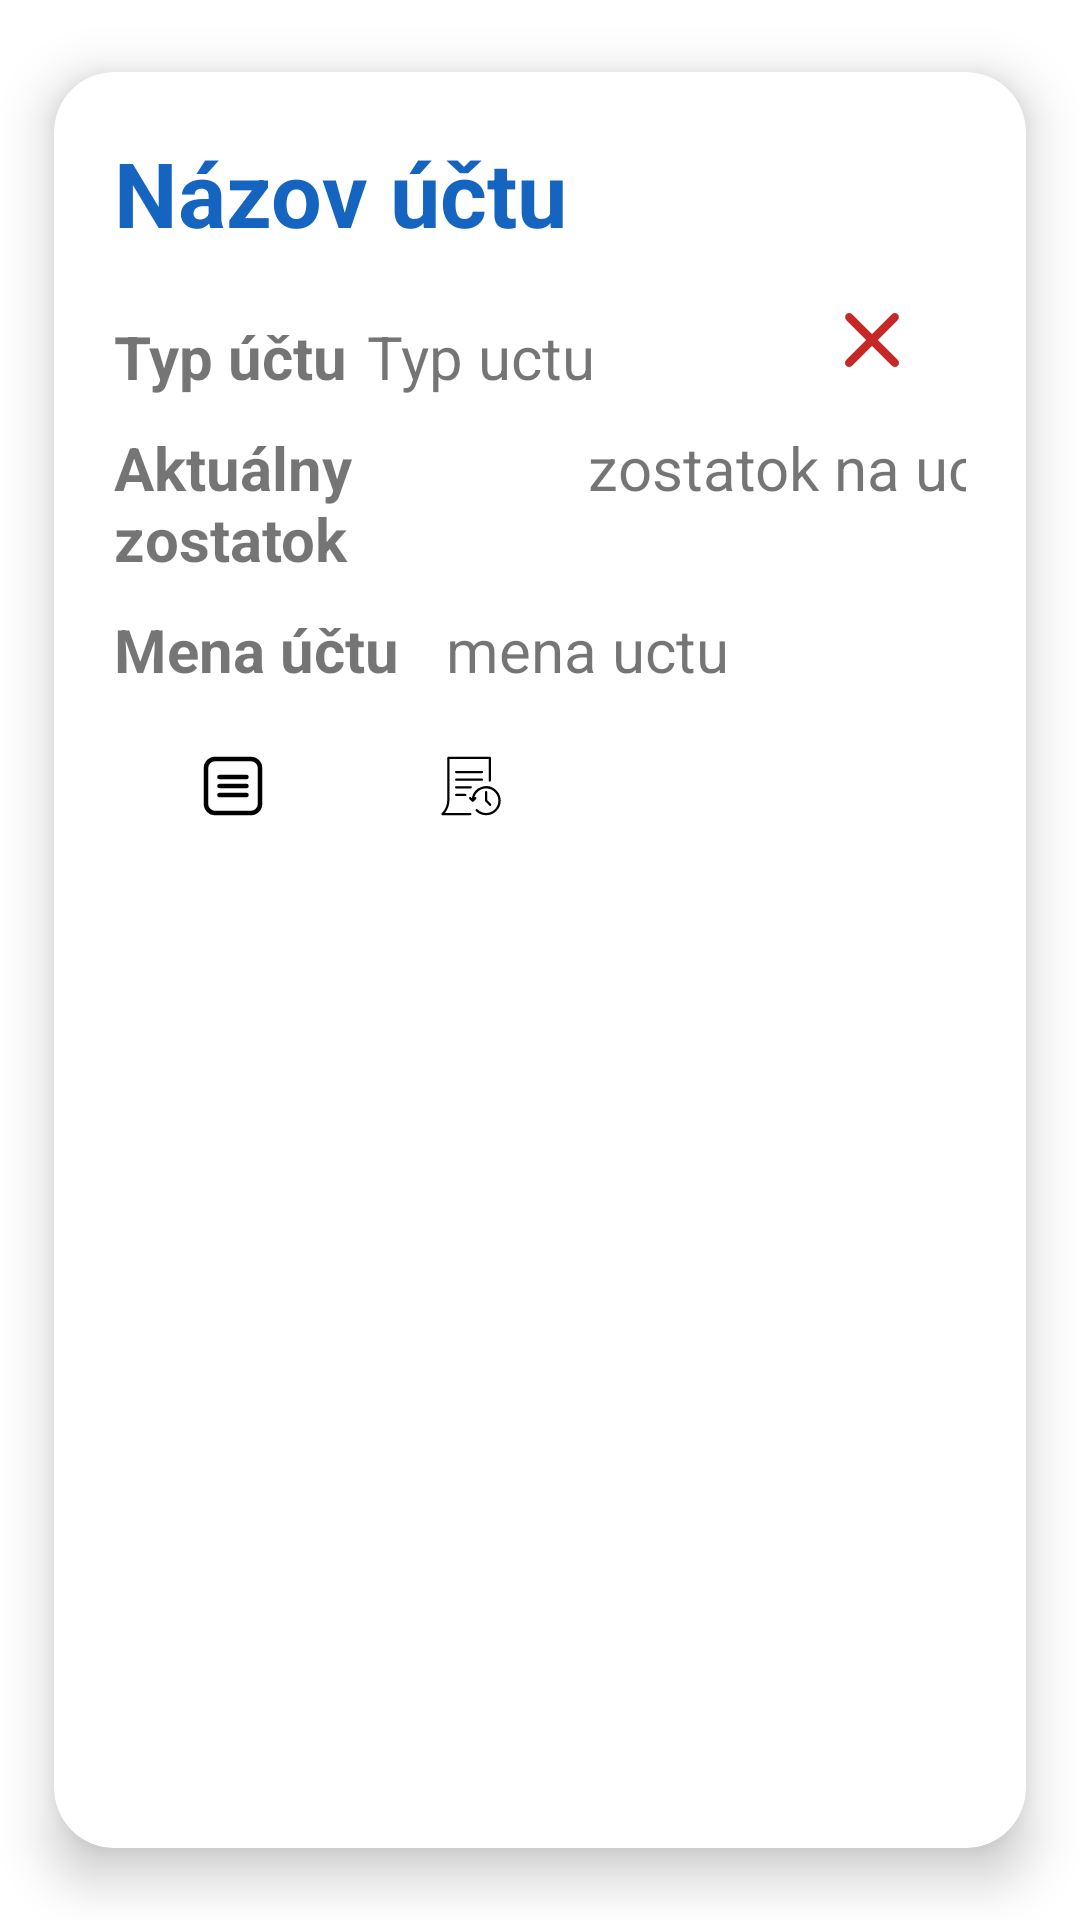

Icons on this 1080×1920 Android screen, each with its box as (left=x1, top=y1, right=x2, bottom=y2):
delete smaller: (left=845, top=313, right=899, bottom=367)
list: (left=203, top=756, right=263, bottom=816)
trvaly prikaz: (left=441, top=756, right=501, bottom=816)
